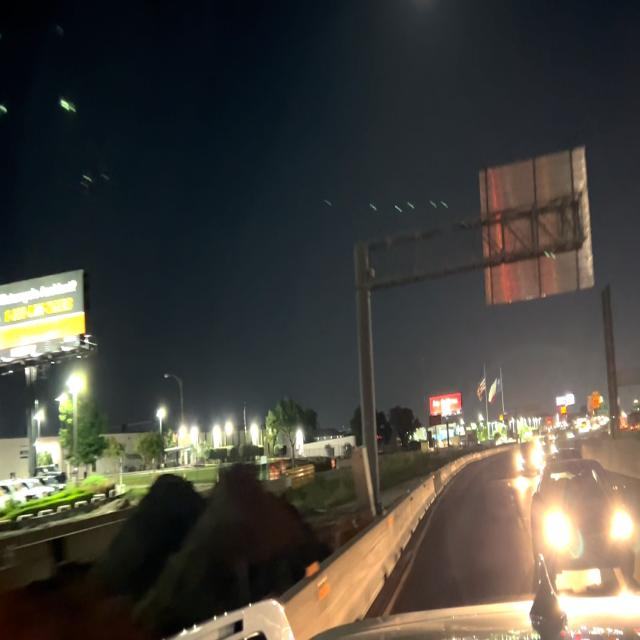back-of-sign: (474, 143, 598, 310)
